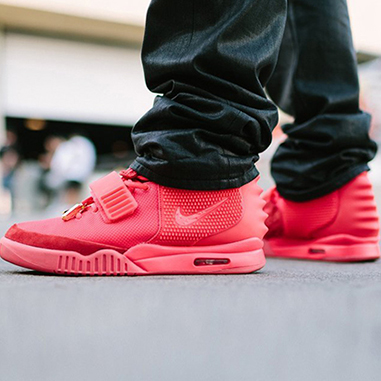Yeezy Red October: (1, 160, 270, 280), (251, 155, 381, 265)
